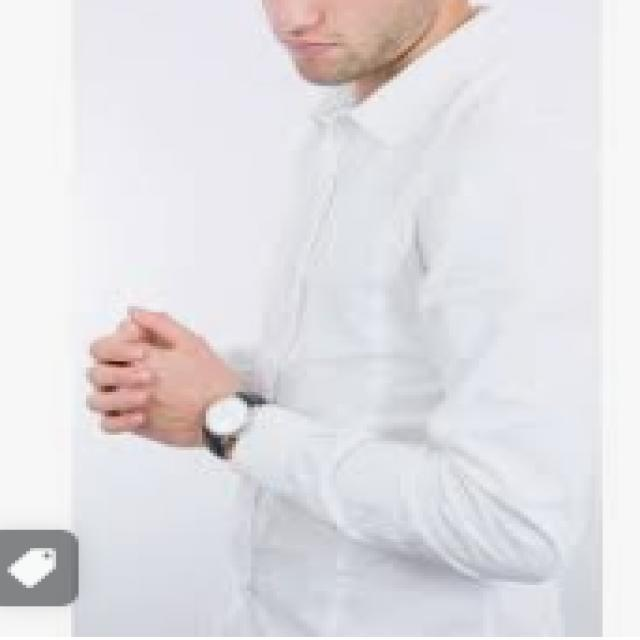Watch: (195, 386, 258, 464)
